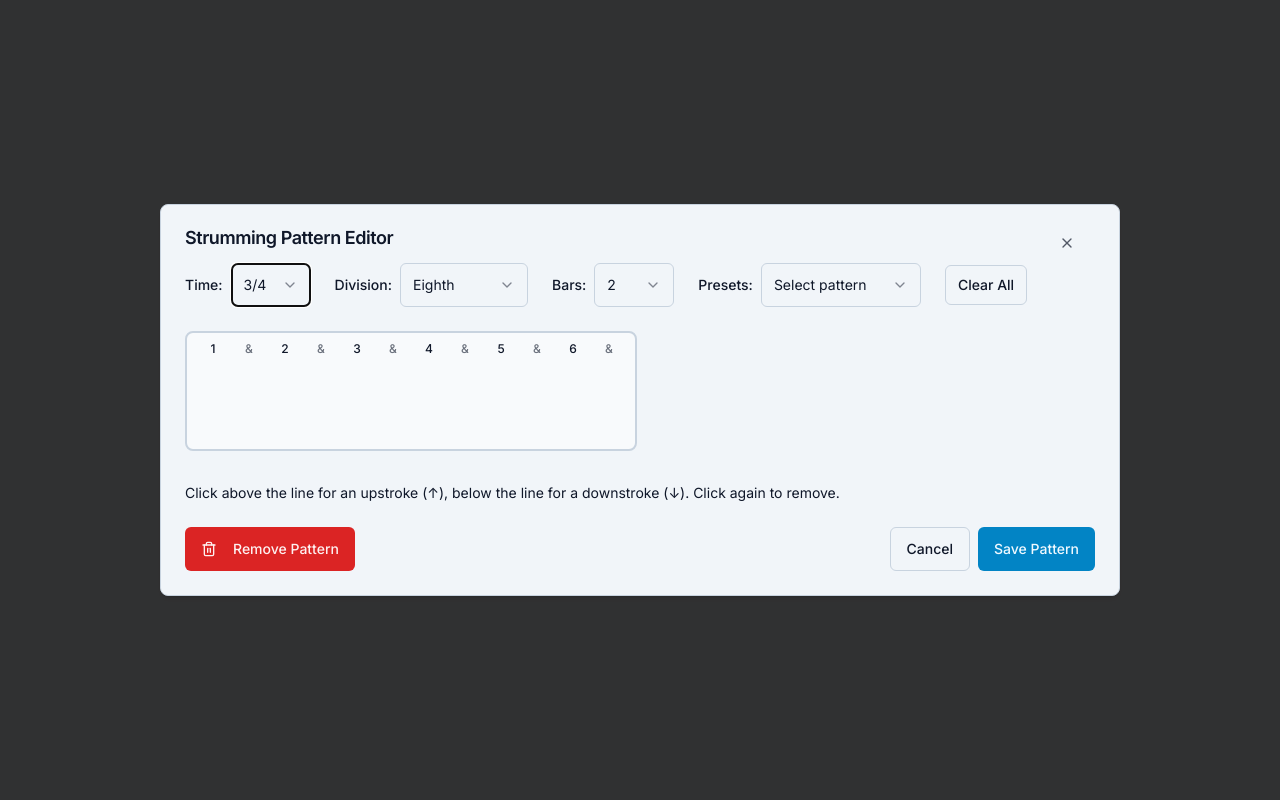
Test: StrummingPatternEditor › Clear Button › should reset pattern to default 4/4 with 1 bar when cleared
Click the button "Clear All": coordinates (986, 285) [945, 265, 1027, 305]
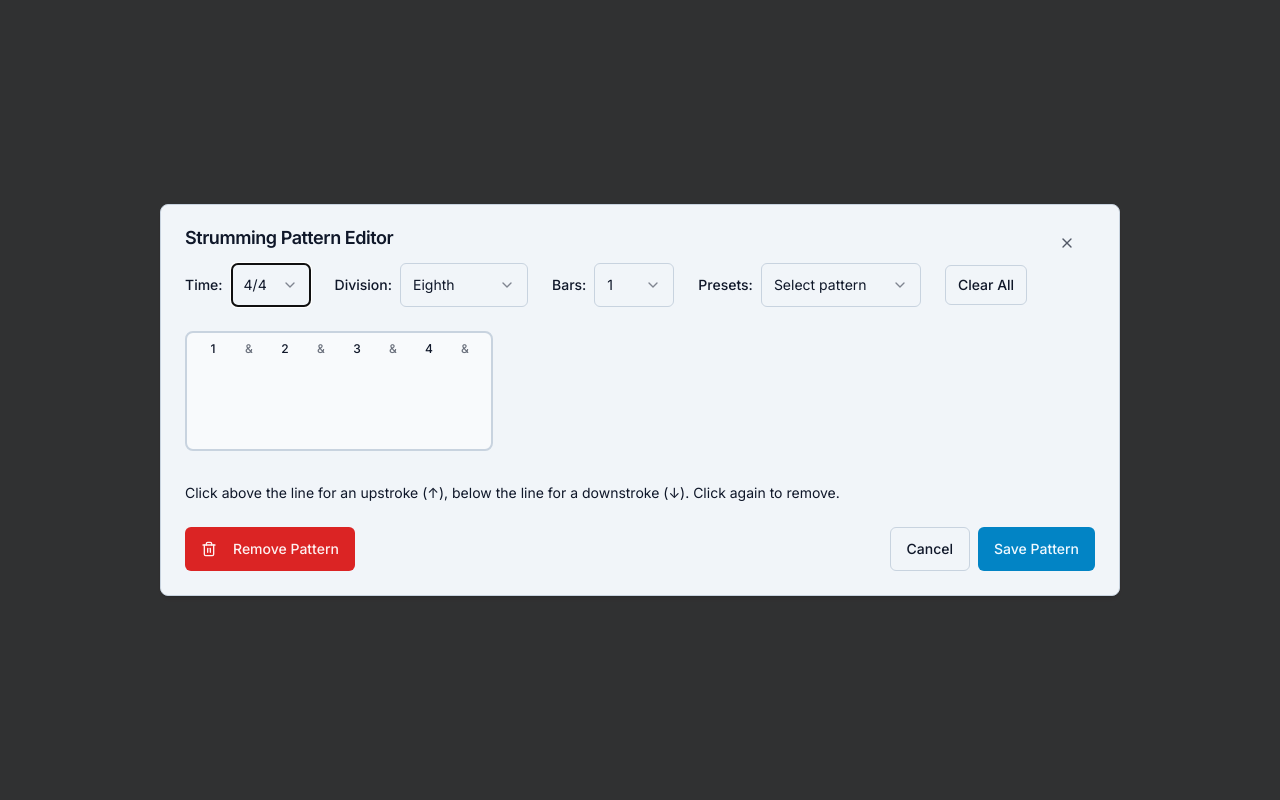
Check: the dropdown labelled "4/4" is shown, box [231, 263, 311, 307]
